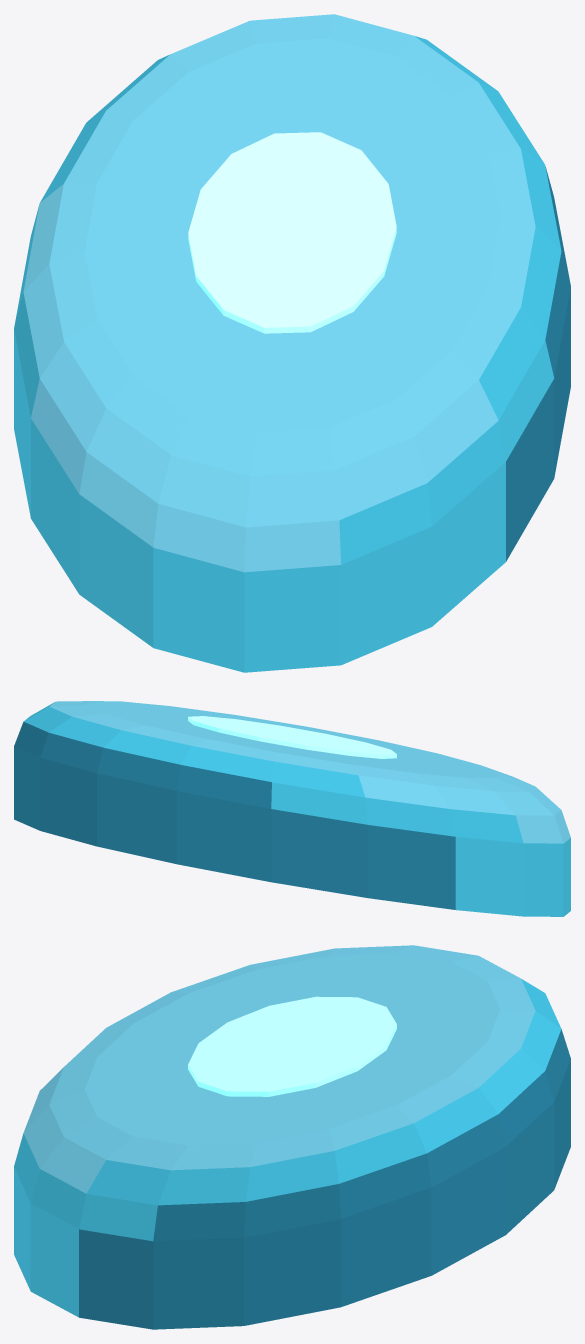
Rendered from Plate_LatchPad.gltf.
3 views of the same model, one above another, from view 1: azimuth 30°, elevation 25°; view 2: azimuth 150°, elevation 25°; view 3: azimuth 270°, elevation 25° (orthographic). The views are drawn at different scales.
Parts seen in each view (by area): view 1: Plate_LatchPad_baked; view 2: Plate_LatchPad_baked; view 3: Plate_LatchPad_baked.
Part boxes in pixels (bbox=[...]): Plate_LatchPad_baked: bbox=[14, 14, 570, 672]; Plate_LatchPad_baked: bbox=[14, 701, 570, 916]; Plate_LatchPad_baked: bbox=[14, 945, 570, 1329].
Bounding box in the file's own units: 0.4264 × 0.2631 × 0.4.
